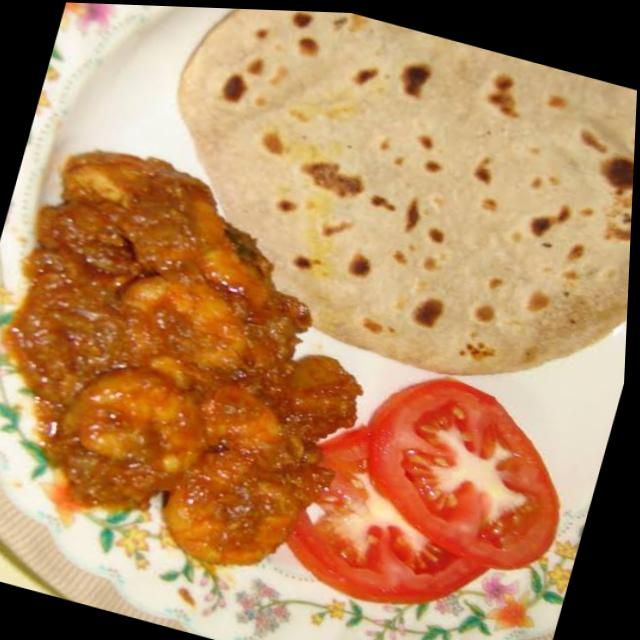CHAPATHI: (163, 8, 637, 402)
